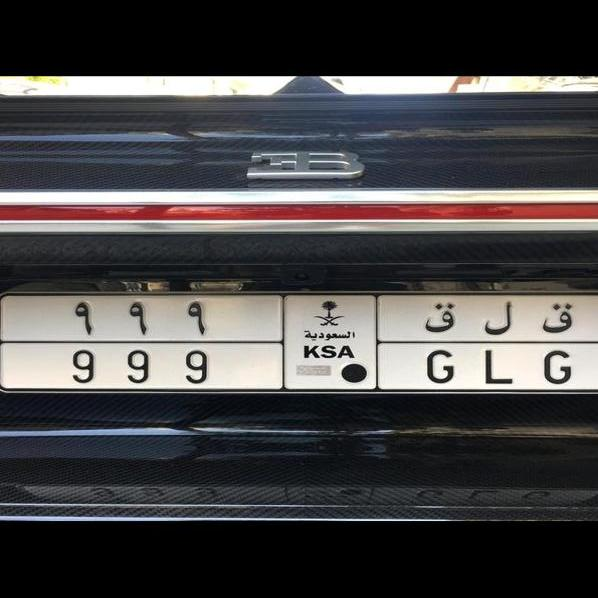numberplate: (23, 295, 589, 392)
